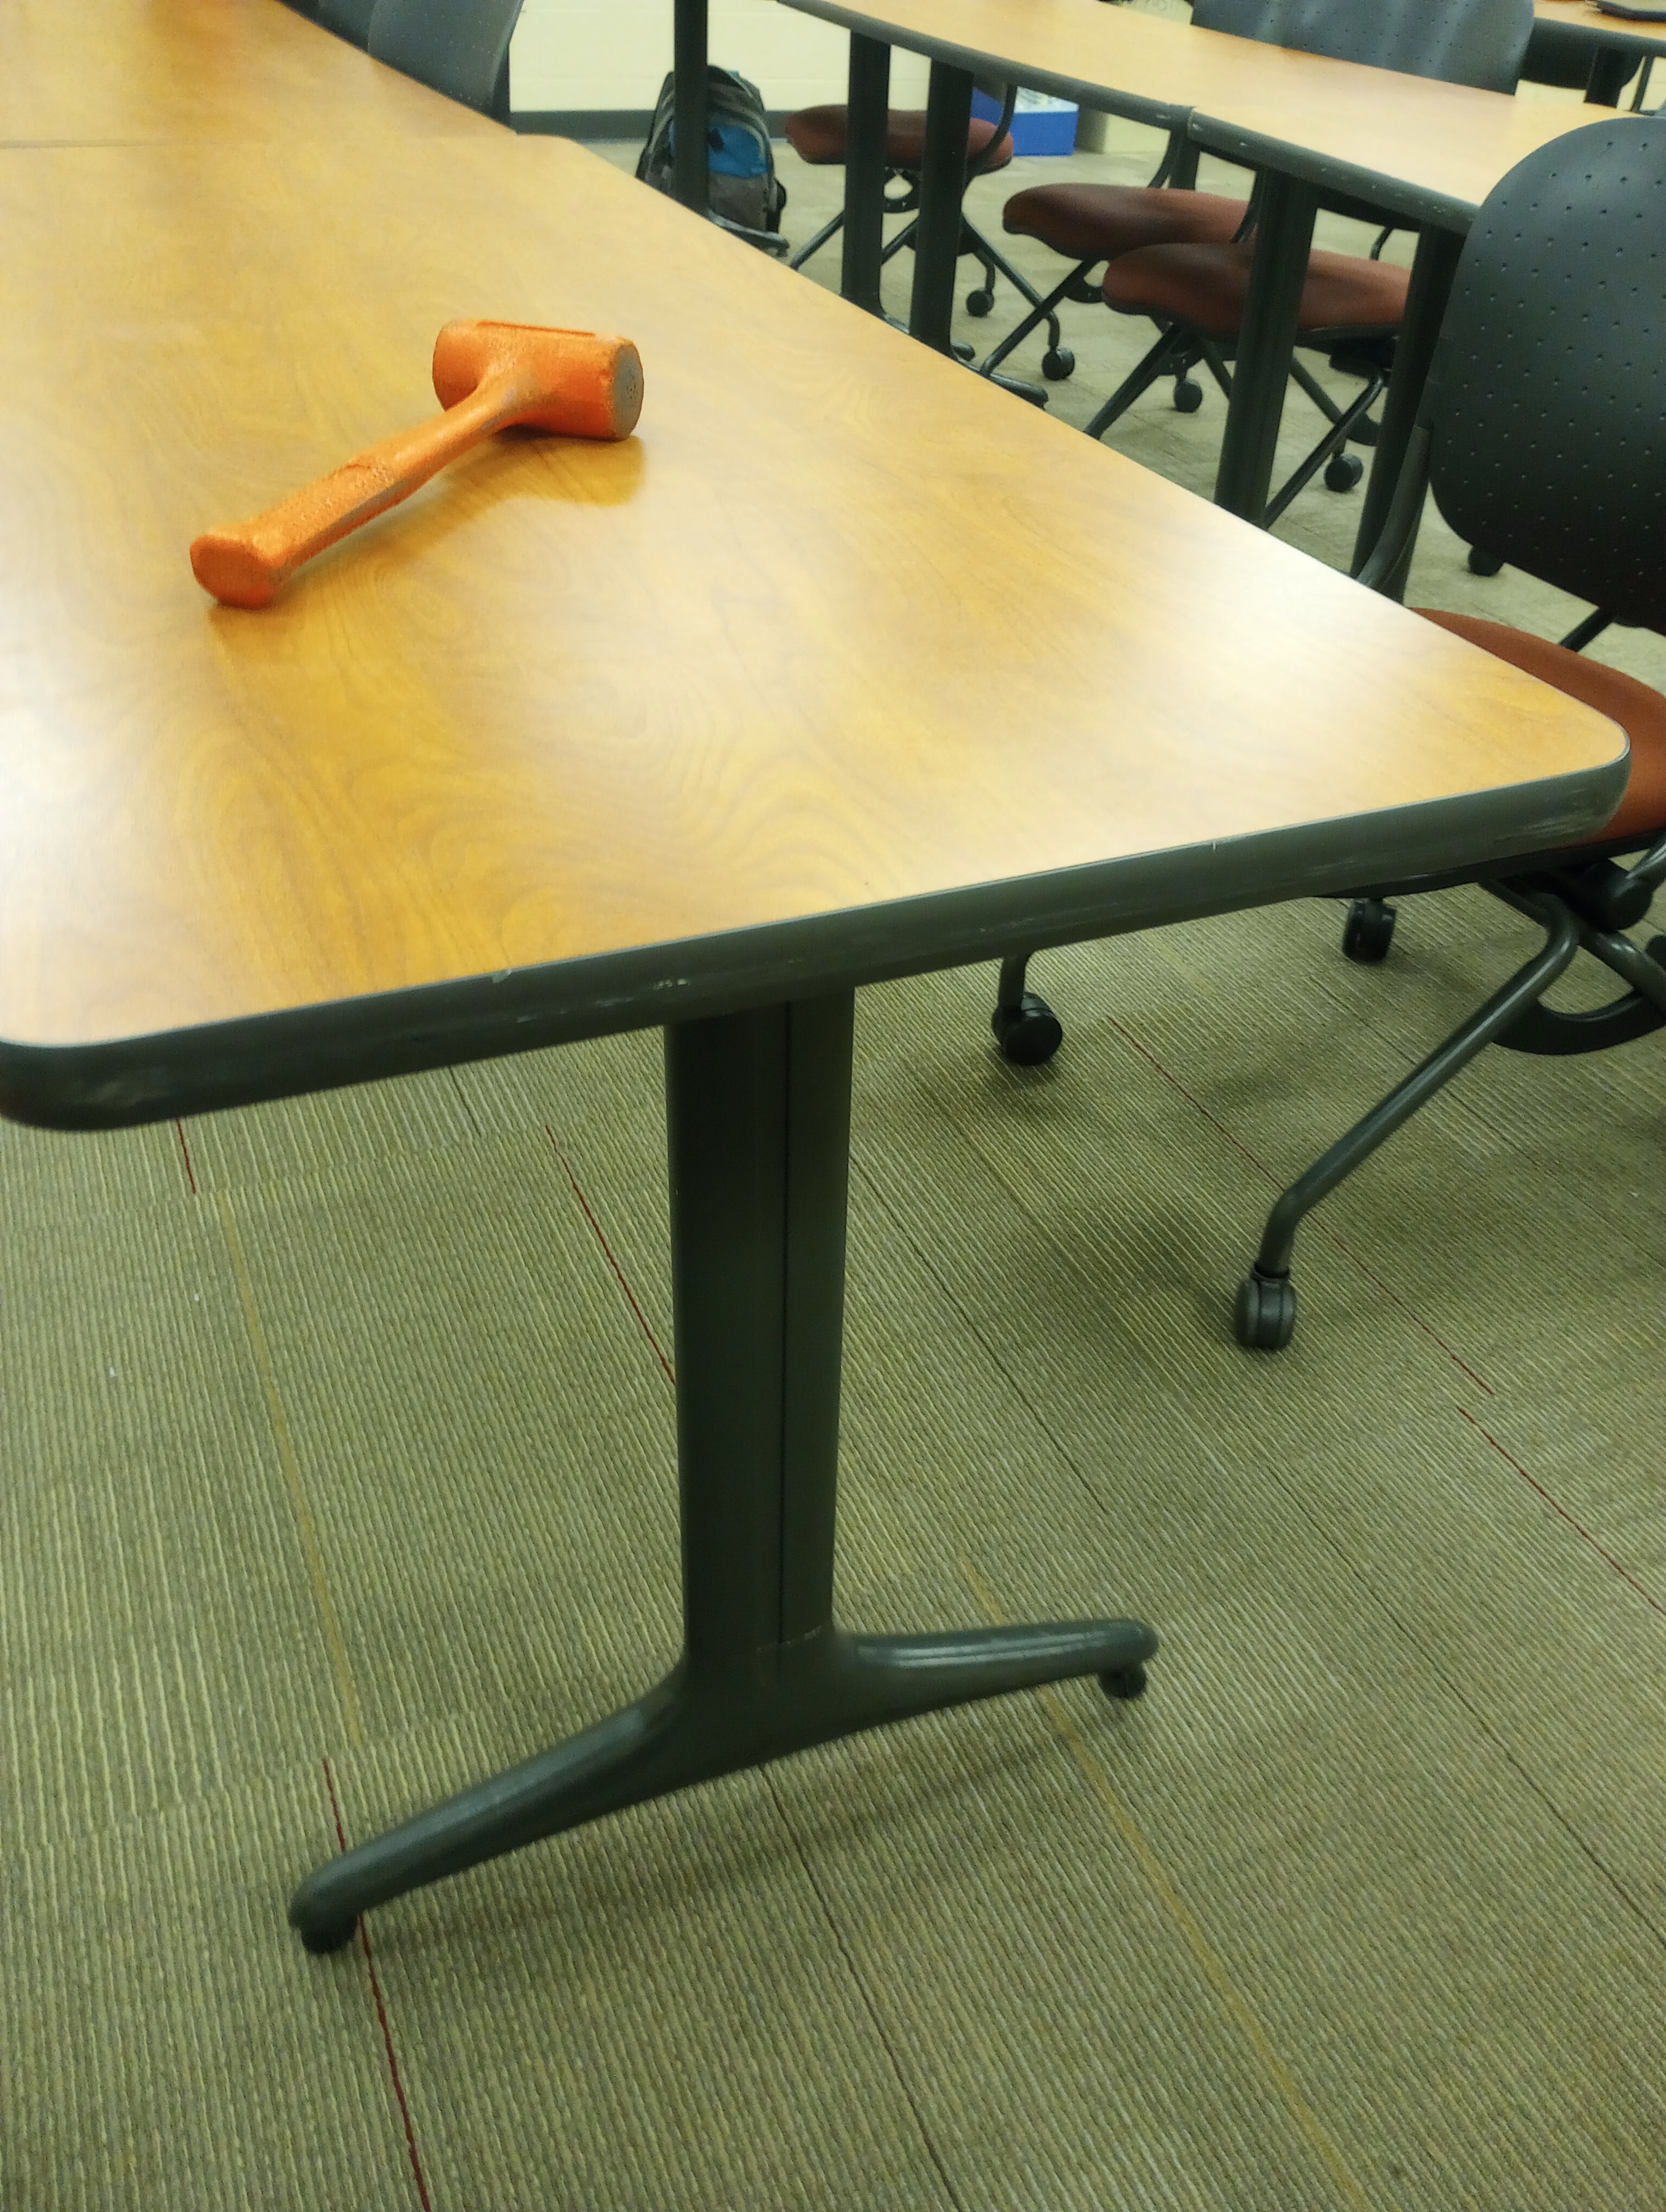hammer: (186, 310, 646, 617)
